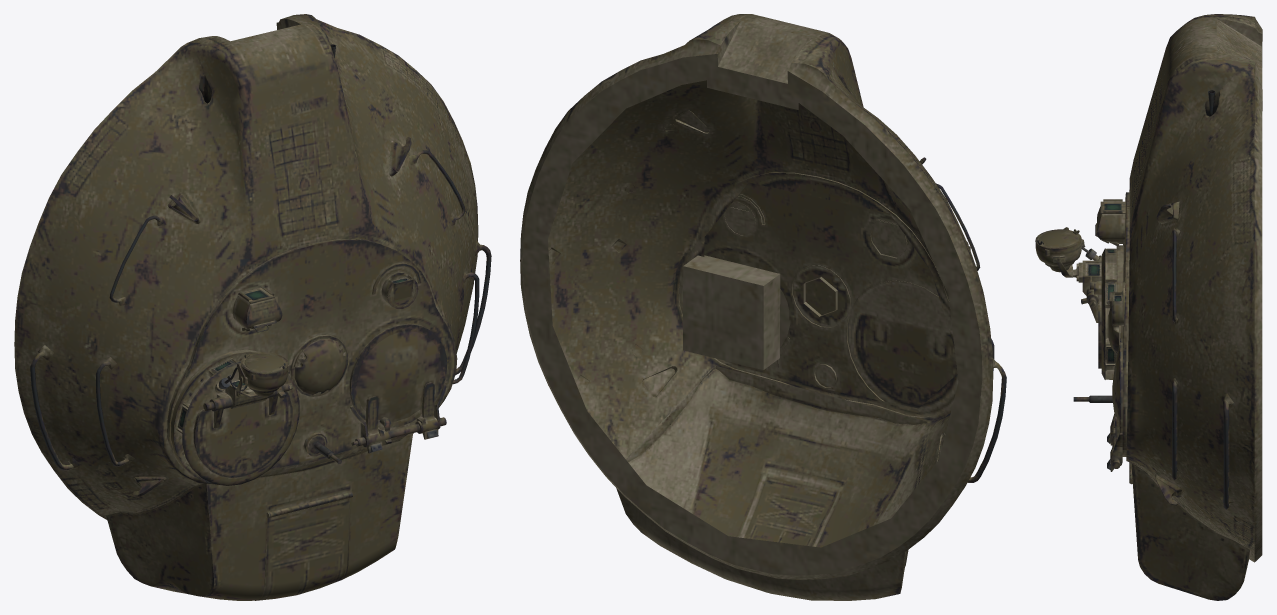
Rendered from Turret_01.glb.
3 renders of one model, left to right at view 1: azimuth 30°, elevation 25°; view 2: azimuth 150°, elevation 25°; view 3: azimuth 270°, elevation 25°, orthographic. The views are drawn at different scales.
Parts seen in each view (by area): view 1: set_0_group_0; view 2: set_0_group_0; view 3: set_0_group_0.
Part boxes in pixels (x1=…): set_0_group_0: x1=14, y1=14, x2=491, y2=600; set_0_group_0: x1=520, y1=14, x2=1006, y2=600; set_0_group_0: x1=1035, y1=14, x2=1262, y2=600.
Bounding box in the file's own units: 2.65 × 3.01 × 1.16.
1 material, 1 textured.
